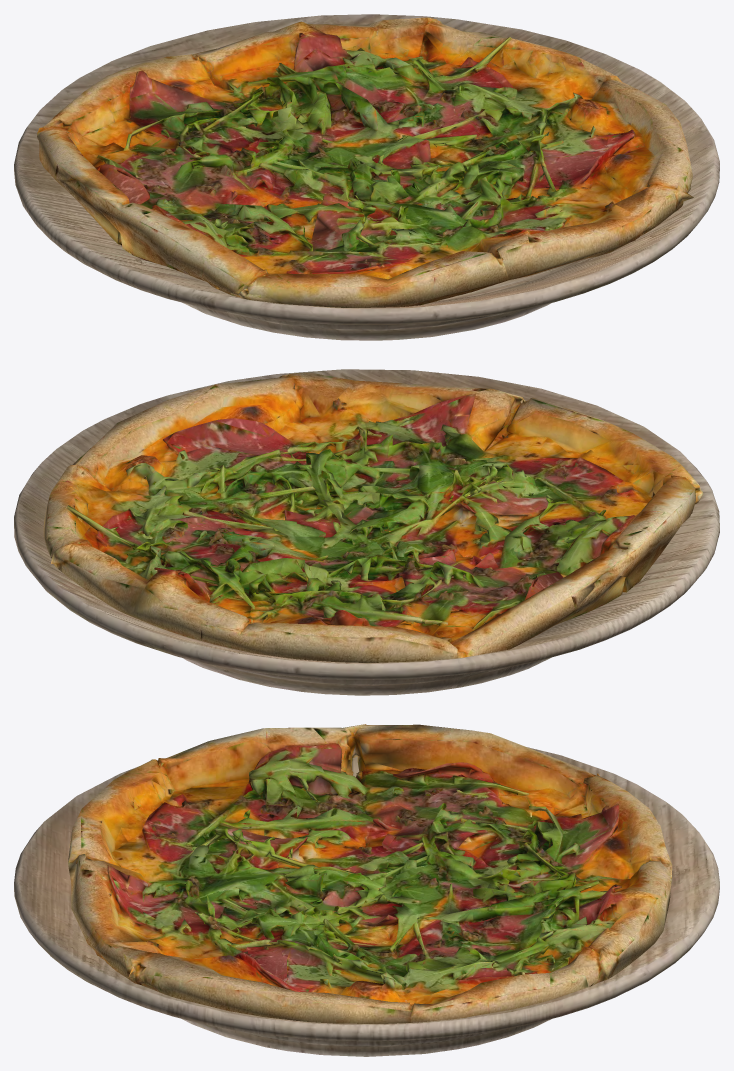
The model's file is pizza-ar.glb.
3 views of the same model, one above another, from view 1: azimuth 30°, elevation 25°; view 2: azimuth 150°, elevation 25°; view 3: azimuth 270°, elevation 25° (orthographic).
Parts seen in each view (by area): view 1: pizza, Tarelka001; view 2: pizza, Tarelka001; view 3: pizza, Tarelka001.
Boxes of the visible parts, x1,y1,x2,y2 form: pizza: [37, 17, 693, 307]; Tarelka001: [14, 14, 719, 340]; pizza: [43, 373, 703, 662]; Tarelka001: [14, 369, 719, 695]; pizza: [68, 724, 672, 1023]; Tarelka001: [14, 747, 719, 1056].
Bounding box in the file's own units: 0.3197 × 0.054 × 0.3198.
2 materials, 2 textured.
